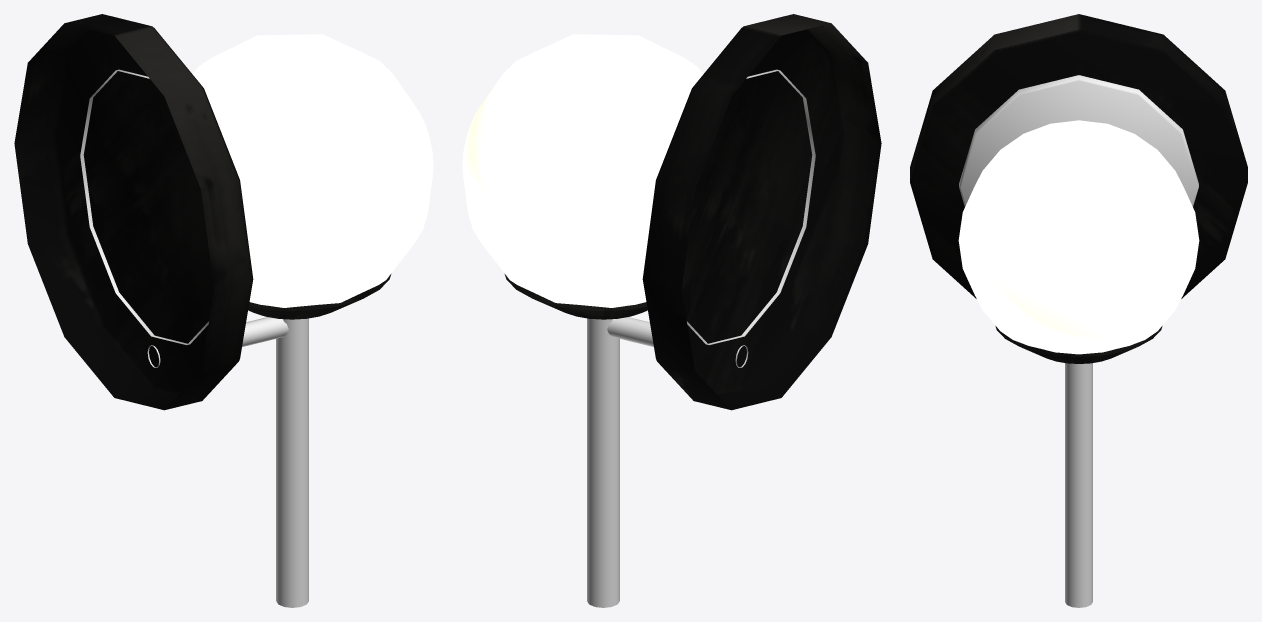
File: sconce01.fbx
3 renders of one model, left to right at view 1: azimuth 30°, elevation 25°; view 2: azimuth 150°, elevation 25°; view 3: azimuth 270°, elevation 25°, orthographic. The views are drawn at different scales.
Visible parts, largest first — view 1: Cylinder.004; view 2: Cylinder.004; view 3: Cylinder.004.
Part boxes in pixels (x1,y1,x2,y2): Cylinder.004: [14, 14, 433, 607]; Cylinder.004: [462, 14, 881, 607]; Cylinder.004: [910, 14, 1247, 607].
Bounding box in the file's own units: 22.56 × 43.56 × 25.93.
